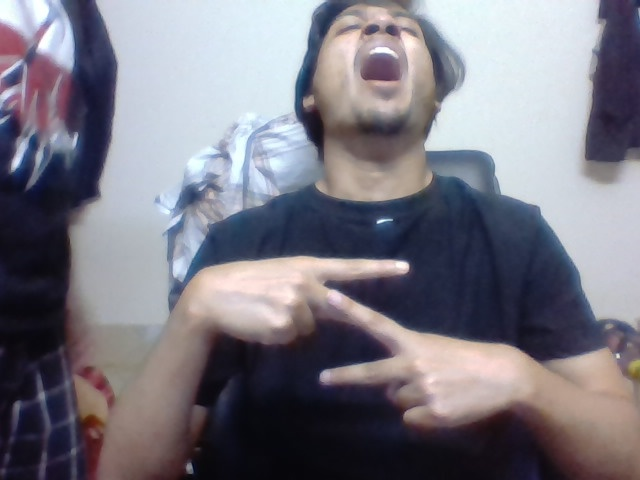Z: (313, 251, 416, 396)
